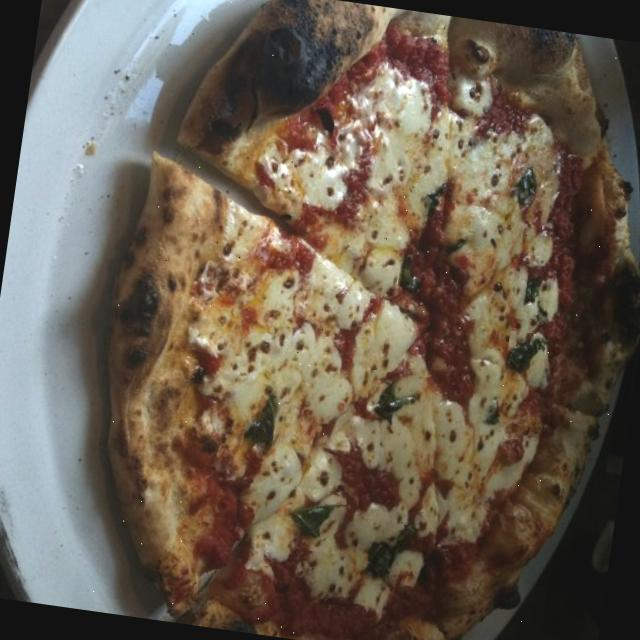basil: (274, 484, 346, 554), (364, 369, 431, 435), (241, 370, 290, 460), (352, 524, 410, 588), (505, 164, 550, 225), (514, 262, 550, 321), (504, 330, 544, 382)
pizza: (107, 0, 636, 640)
